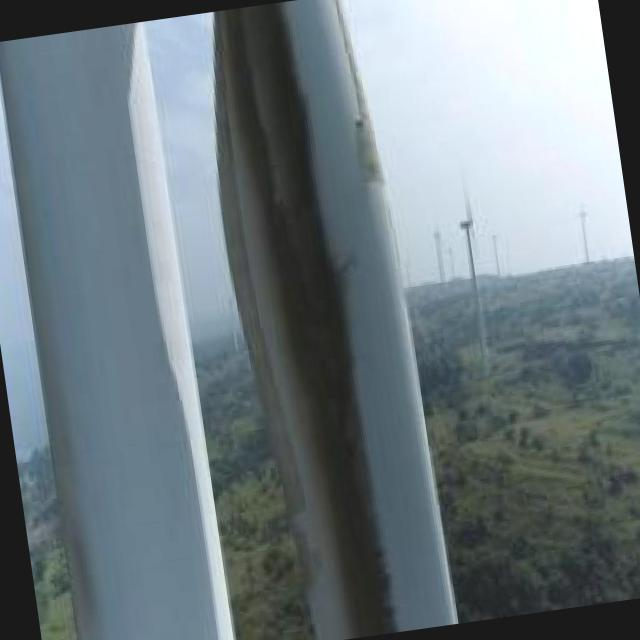Dirt: (200, 0, 402, 639)
Pin Hole: (354, 115, 366, 131)
